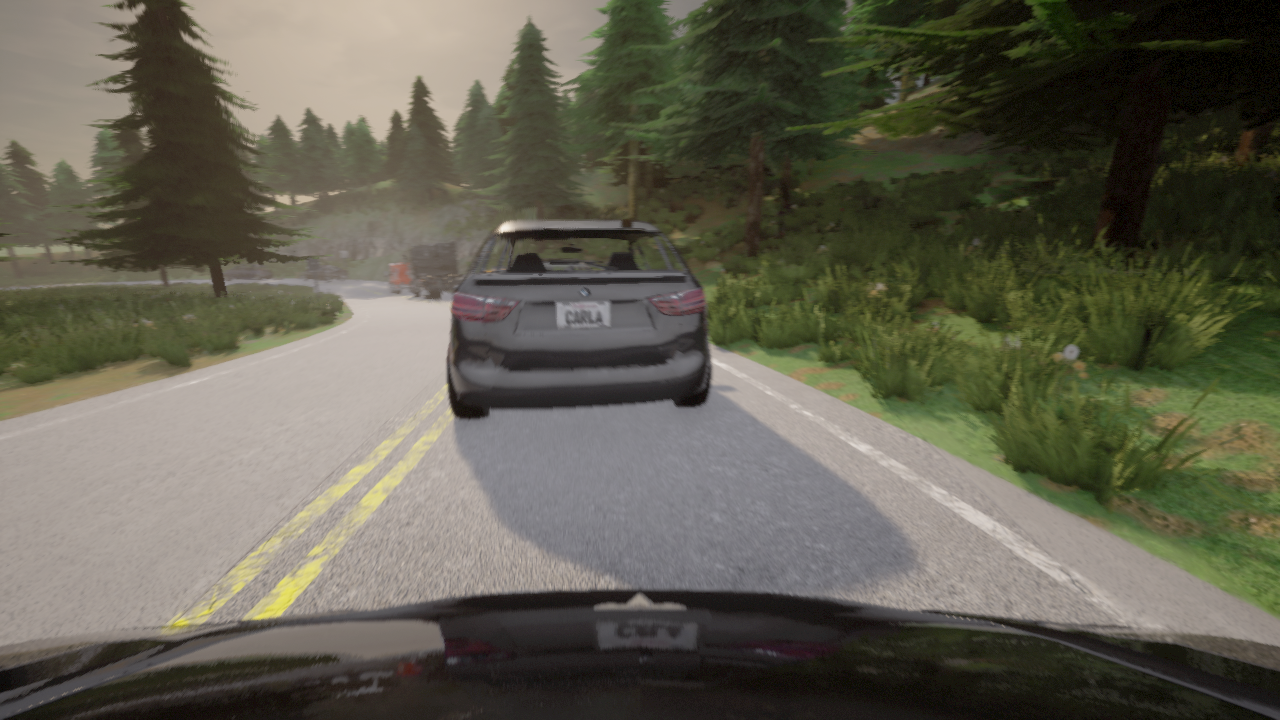cyclist: (0, 588, 1279, 719), (447, 219, 711, 418), (402, 242, 464, 299), (223, 264, 272, 280), (299, 266, 347, 282), (384, 263, 409, 293)
